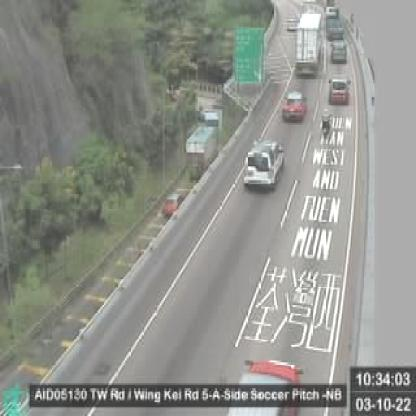Car: (244, 138, 285, 190), (281, 89, 305, 127), (329, 75, 350, 104), (330, 40, 346, 64), (326, 22, 341, 36)
Truck: (295, 11, 321, 76)
